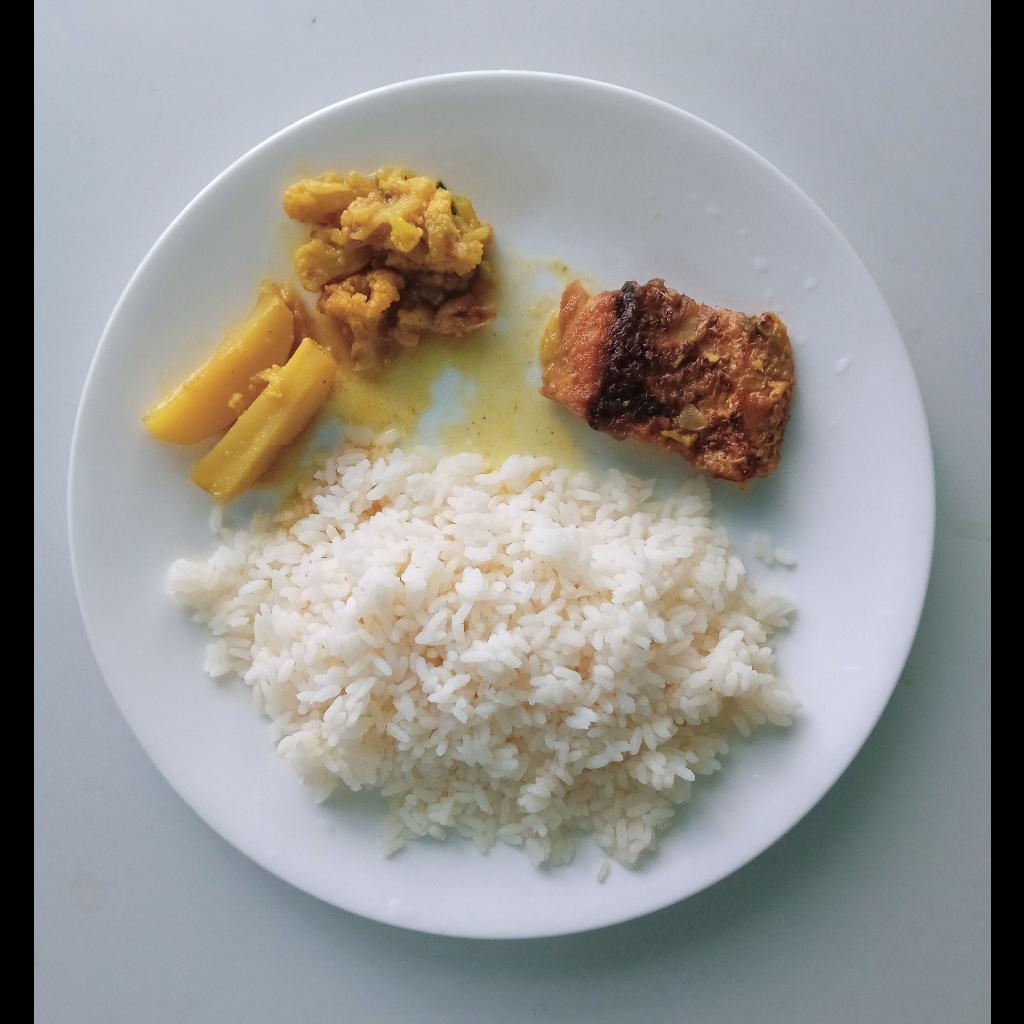cauliflower: (285, 178, 495, 351)
fish: (527, 286, 792, 460)
potato: (142, 305, 343, 503)
rice: (174, 458, 801, 877)
